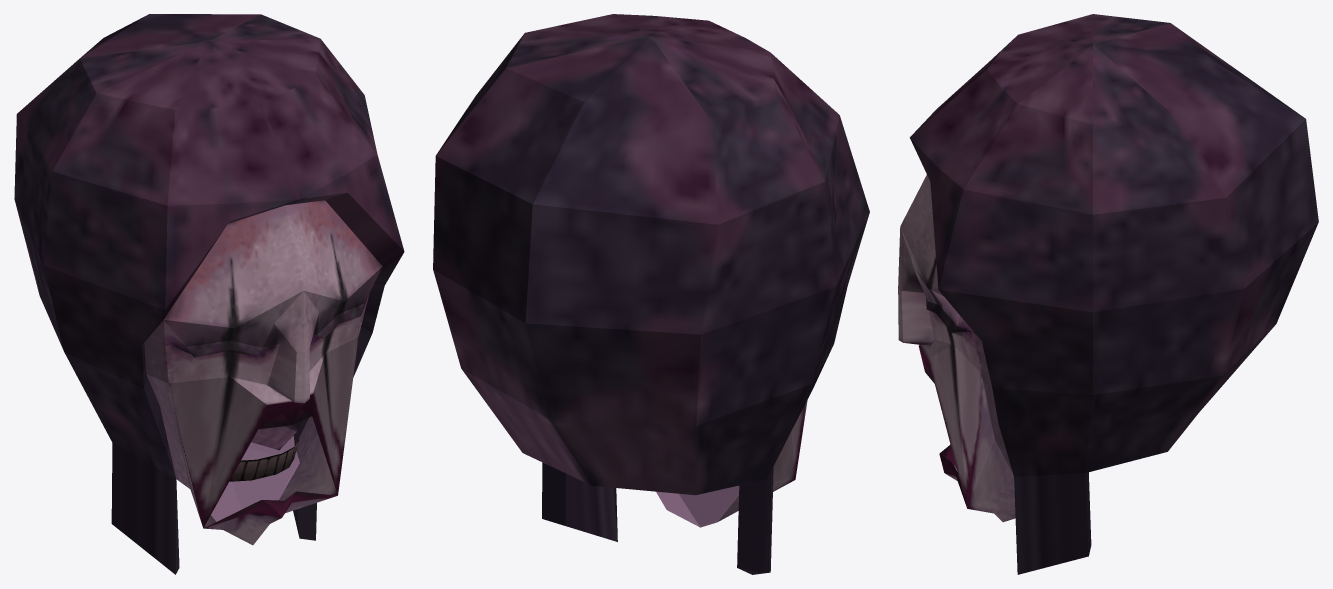
File: head.glb
3 renders of one model, left to right at view 1: azimuth 30°, elevation 25°; view 2: azimuth 150°, elevation 25°; view 3: azimuth 270°, elevation 25°, orthographic. The views are drawn at different scales.
Visible parts, largest first — view 1: head.modified; view 2: head.modified; view 3: head.modified.
Part boxes in pixels (x1,y1,x2,y2): head.modified: (14,14,404,574); head.modified: (433,14,869,574); head.modified: (898,14,1318,574).
Bounding box in the file's own units: 2.13 × 3.02 × 2.32.
2 materials, 2 textured.
